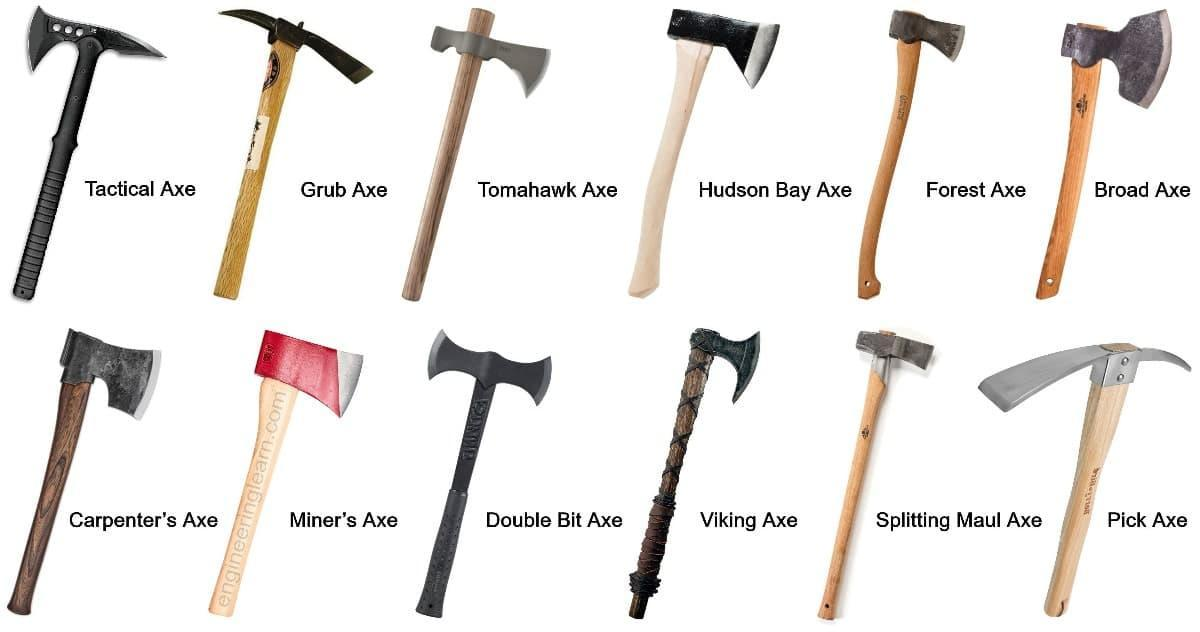machado: (213, 10, 372, 299), (13, 7, 165, 299), (208, 330, 363, 616), (628, 9, 780, 296), (402, 8, 550, 301), (8, 329, 160, 614), (1036, 9, 1172, 299), (416, 332, 551, 617), (629, 328, 758, 618), (818, 331, 933, 619), (858, 10, 963, 298)
